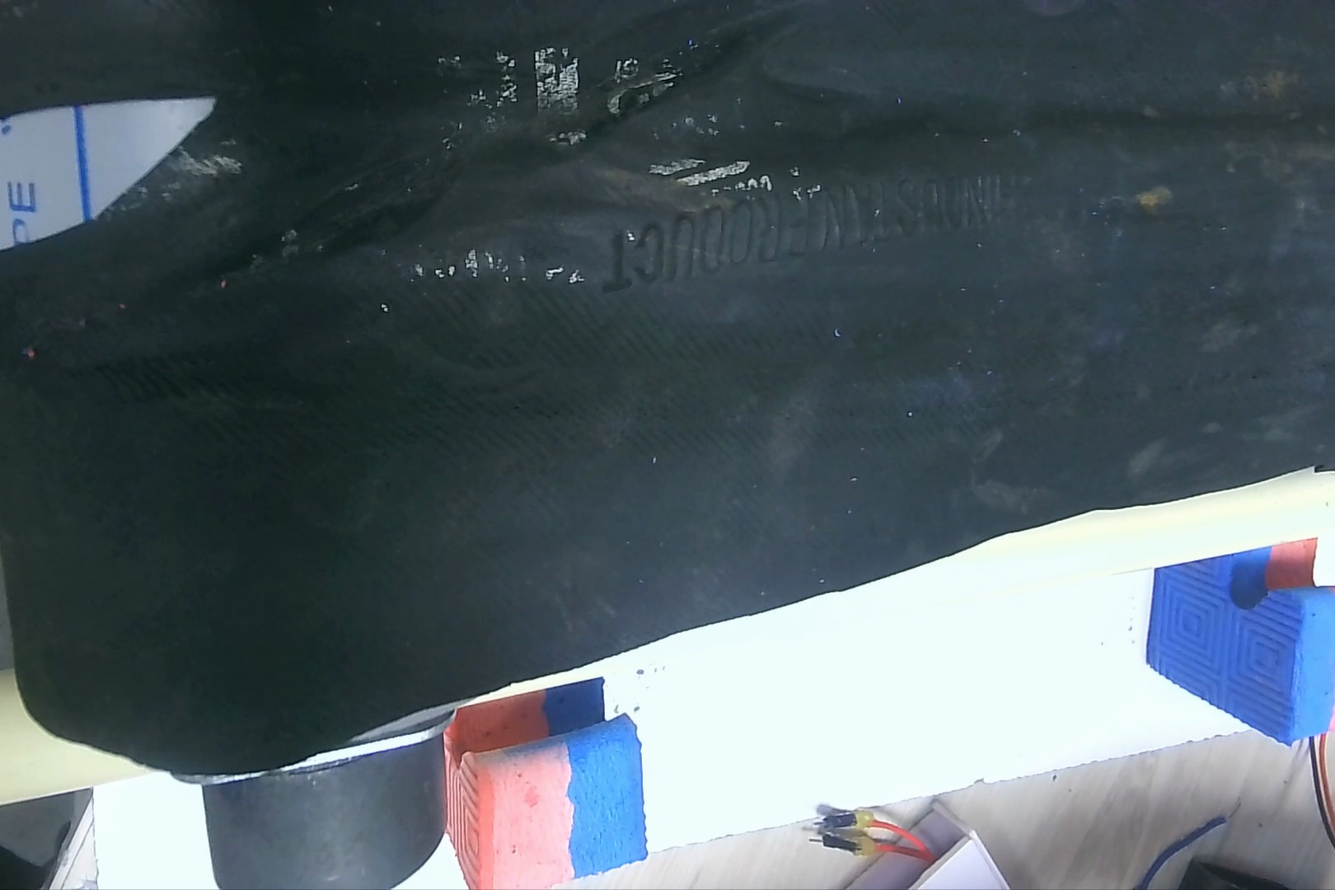hole: (19, 80, 224, 264)
tear: (684, 169, 726, 184)
